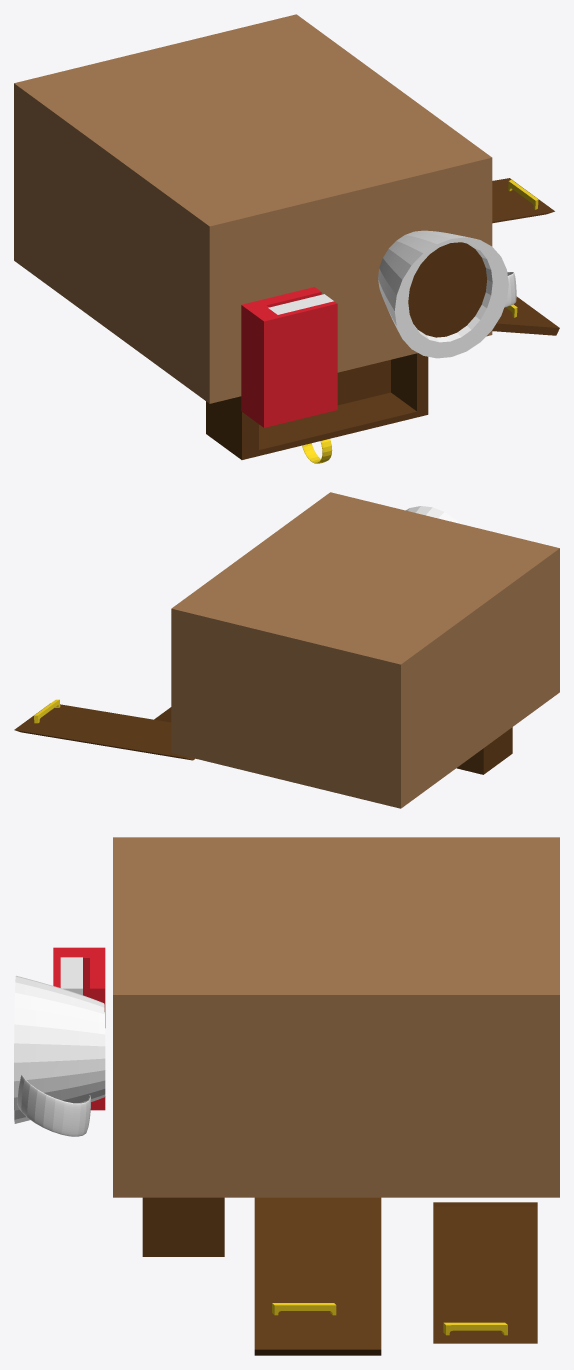
The model's file is tinker.obj.
The picture shows the model from 3 angles, top to bottom: view 1: azimuth 30°, elevation 25°; view 2: azimuth 150°, elevation 25°; view 3: azimuth 270°, elevation 25°; orthographic projection. The views are drawn at different scales.
Visible parts, largest first — view 1: group_0_11107152, group_0_6306067, group_0_15277357, group_0_16448250, group_0_16768282; view 2: group_0_11107152, group_0_6306067; view 3: group_0_11107152, group_0_6306067, group_0_16448250, group_0_15277357, group_0_16768282.
Boxes of the visible parts, bbox=[...] form: group_0_11107152: bbox=[14, 14, 492, 403]; group_0_6306067: bbox=[206, 178, 559, 459]; group_0_15277357: bbox=[241, 287, 337, 427]; group_0_16448250: bbox=[268, 230, 516, 358]; group_0_16768282: bbox=[302, 179, 538, 463]; group_0_11107152: bbox=[171, 492, 559, 808]; group_0_6306067: bbox=[14, 703, 512, 774]; group_0_11107152: bbox=[113, 837, 559, 1197]; group_0_6306067: bbox=[104, 1010, 537, 1355]; group_0_16448250: bbox=[14, 957, 105, 1136]; group_0_15277357: bbox=[53, 947, 105, 1110]; group_0_16768282: bbox=[272, 1303, 507, 1335].
Size of the model in its own units: 86 by 48.9 by 73.28.
